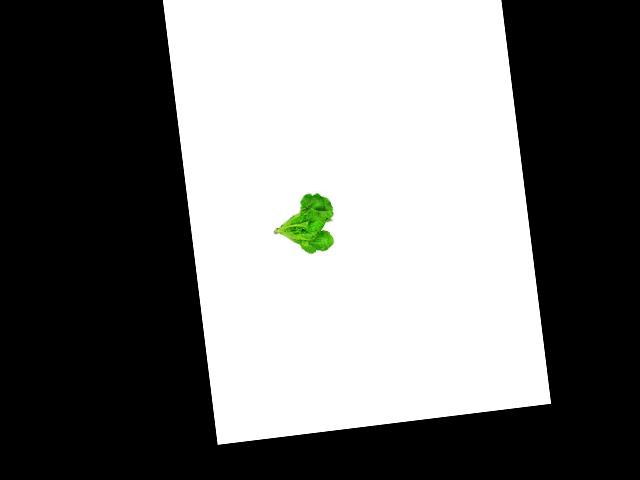lettuce: (267, 187, 341, 260)
